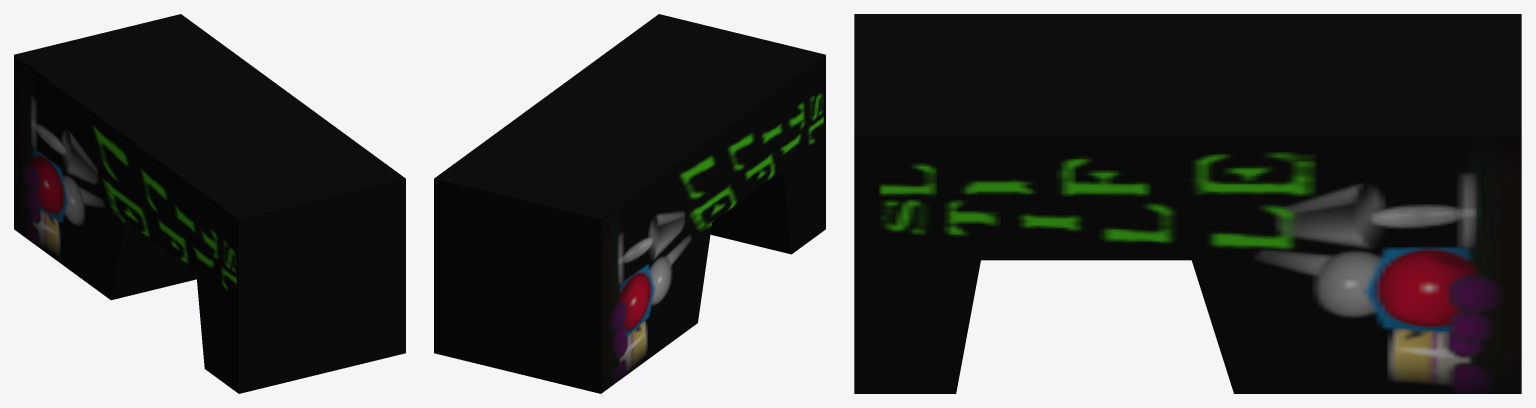
The model's file is stilllifegame_wtf.obj.
3 views of the same model, side by side, from view 1: azimuth 30°, elevation 25°; view 2: azimuth 150°, elevation 25°; view 3: azimuth 270°, elevation 25° (orthographic). The views are drawn at different scales.
Parts seen in each view (by area): view 1: group2; view 2: group2; view 3: group2.
Part boxes in pixels (x1,y1,x2,y2): group2: (14, 14, 405, 393); group2: (434, 14, 825, 393); group2: (854, 14, 1521, 393).
Bounding box in the file's own units: 283 × 283 × 660.
